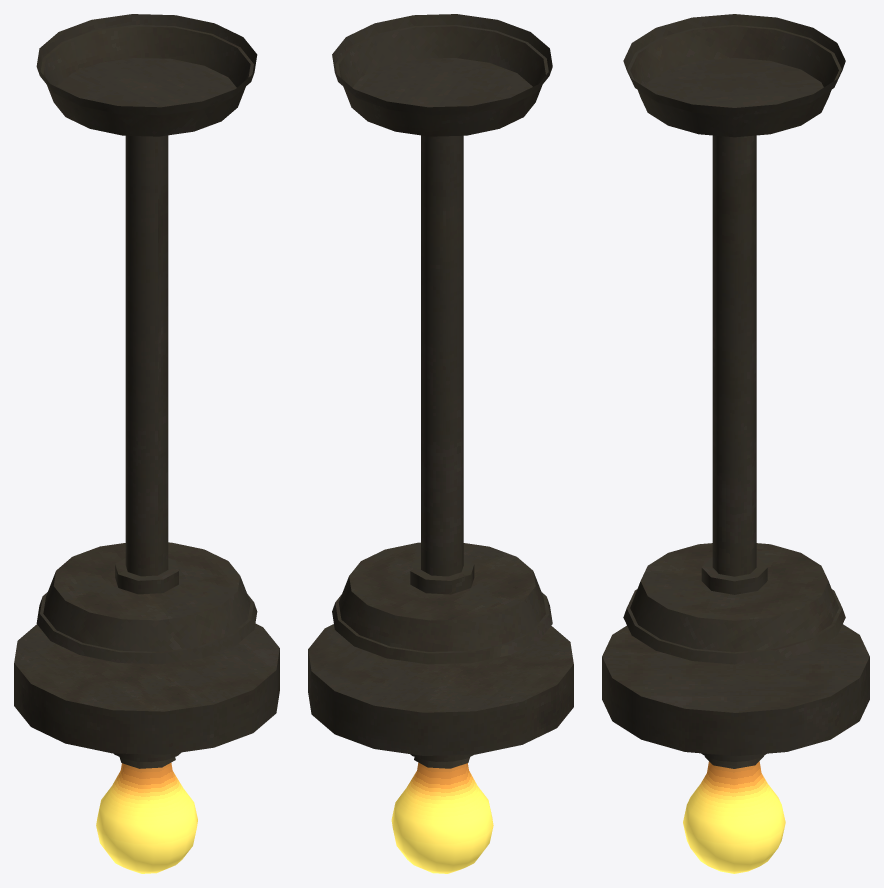
File: ceiling_fan_mp_1_1_light_on.glb
3 views of the same model, side by side, from view 1: azimuth 30°, elevation 25°; view 2: azimuth 150°, elevation 25°; view 3: azimuth 270°, elevation 25° (orthographic).
Visible parts, largest first — view 1: ceiling_fan_mp_1_1_light_on; view 2: ceiling_fan_mp_1_1_light_on; view 3: ceiling_fan_mp_1_1_light_on.
Part boxes in pixels (x1,y1,x2,y2): ceiling_fan_mp_1_1_light_on: (14,14,279,873); ceiling_fan_mp_1_1_light_on: (308,14,573,873); ceiling_fan_mp_1_1_light_on: (602,14,869,873).
Size of the model in its own units: 0.1792 by 0.5966 by 0.1792.
2 materials, 2 textured.
